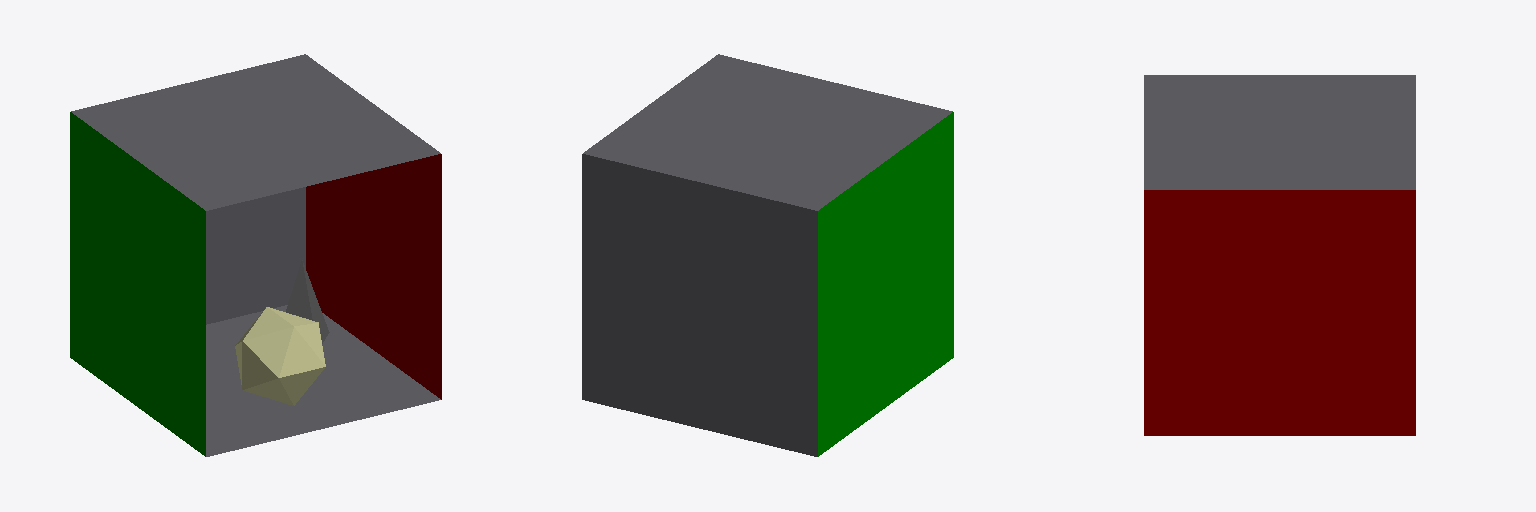
The model's file is cornell_box22.obj.
3 views of the same model, side by side, from view 1: azimuth 30°, elevation 25°; view 2: azimuth 150°, elevation 25°; view 3: azimuth 270°, elevation 25° (orthographic).
Bounding box in the file's own units: 1 × 1 × 1.